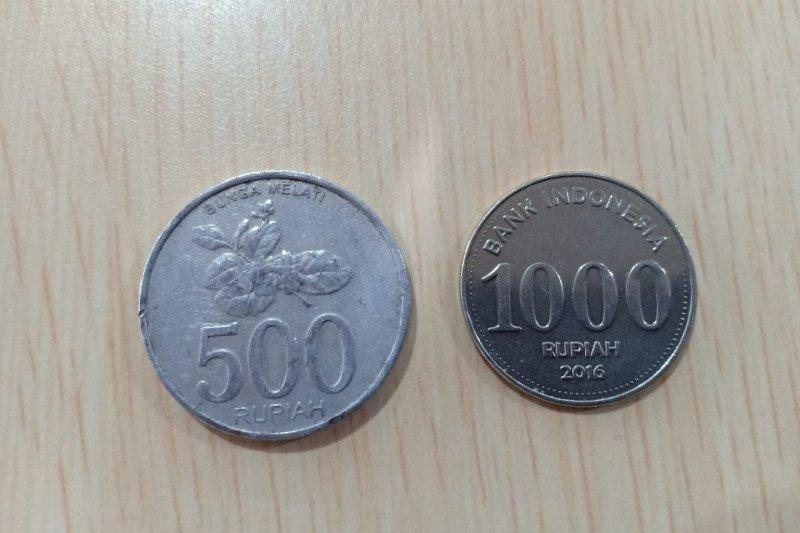coin_500_e2003: (137, 167, 414, 447)
